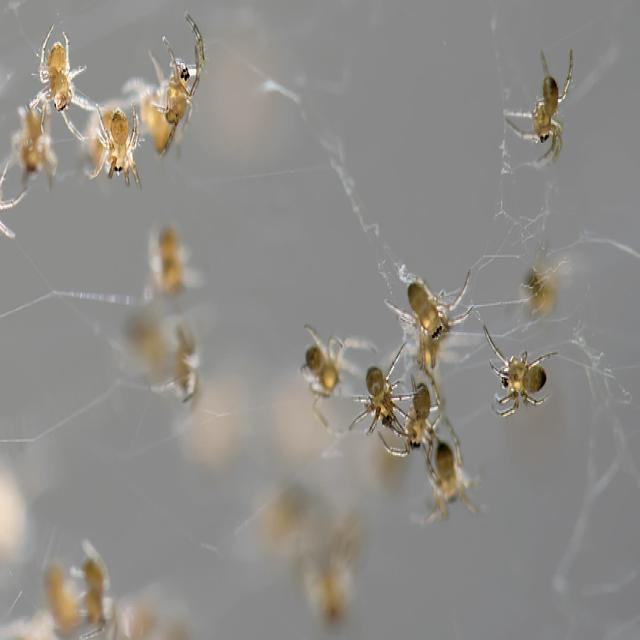spyder: (124, 13, 205, 155), (391, 272, 471, 373), (29, 26, 95, 140), (505, 51, 572, 162), (301, 325, 374, 425), (350, 342, 411, 455), (484, 327, 556, 417), (484, 327, 556, 416), (436, 417, 479, 519), (90, 104, 141, 189), (380, 377, 431, 455)
